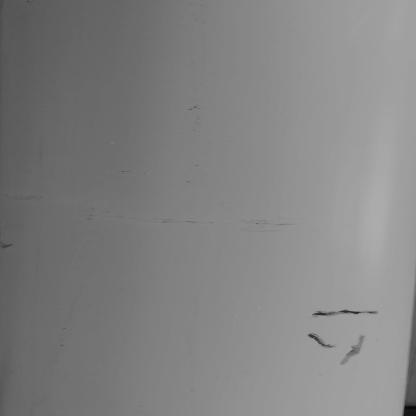fengxi: (312, 309, 381, 320), (341, 338, 365, 366), (309, 331, 336, 353)
